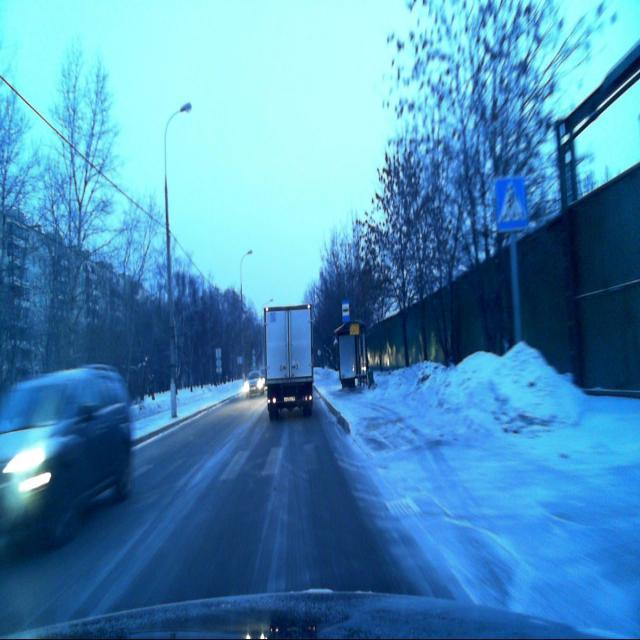object: (510, 238, 522, 343)
road sign: (494, 177, 527, 232), (342, 300, 350, 322)
